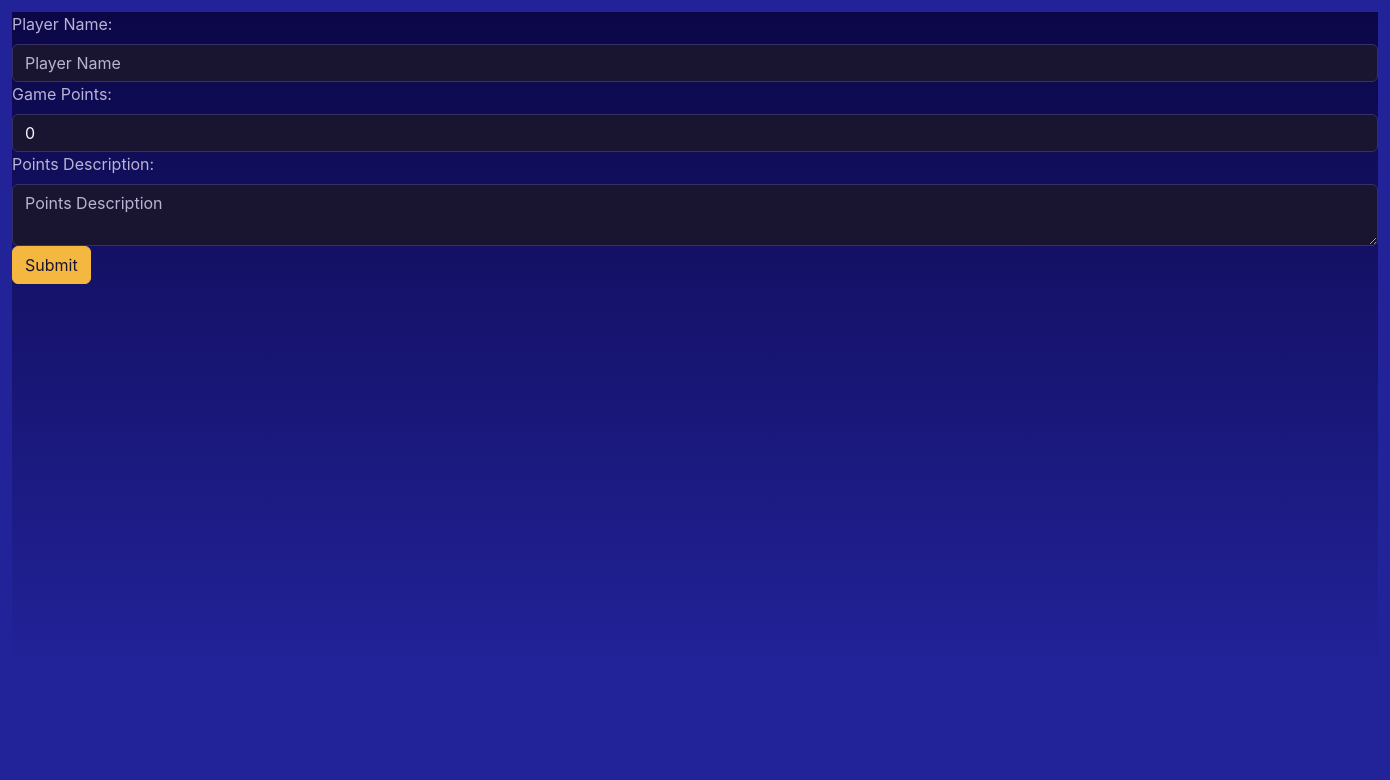
Test case: NewScoreForm Tests › shows required errors when submitting empty form
Step 1. Click the button "Submit" → click(51, 265), box [12,246,91,284]
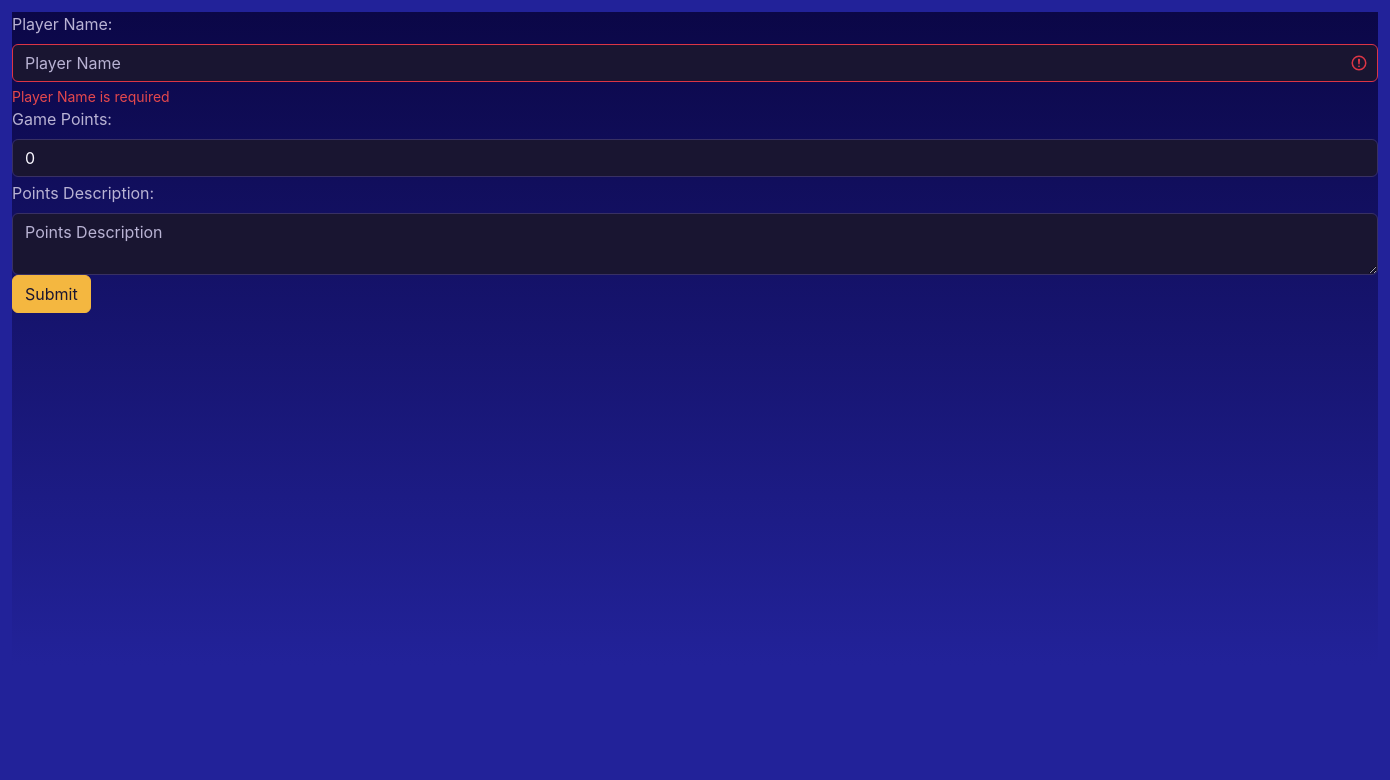
Check: the text "Player Name is required" is shown, box [12,88,170,105]
